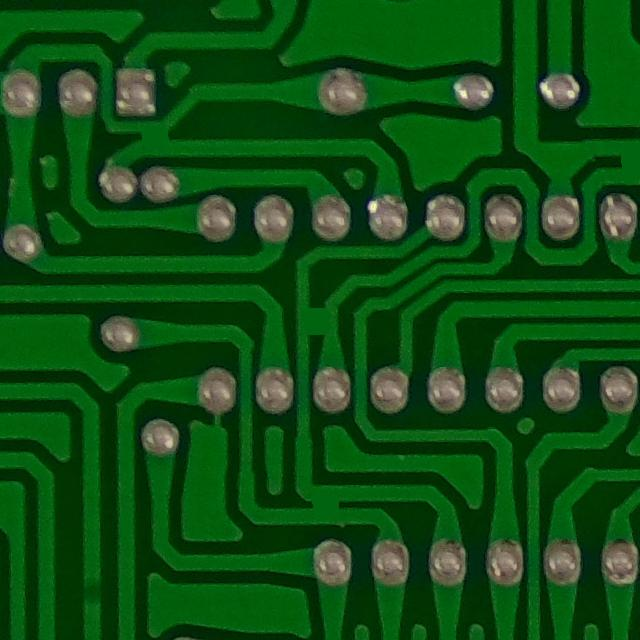short: (291, 295, 349, 346)
